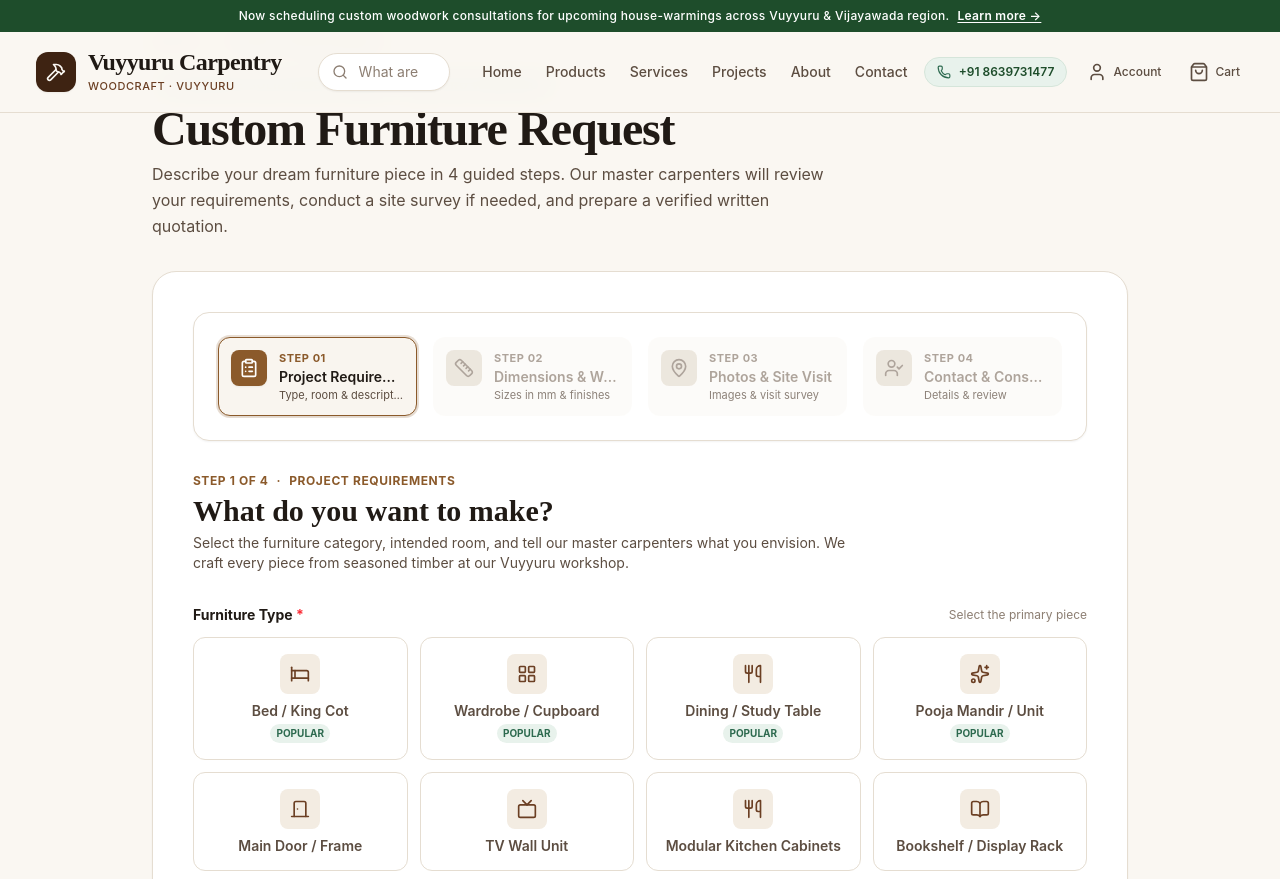
Test: Screen 05: Custom Furniture Request Acceptance Tests › renders Step 1 initially and preserves entered values when navigating between steps
(page scrolled)
Expected: the heading "What do you want to make?" is shown, left=193, top=494, right=554, bottom=527
// Select Bed
Click the text "Bed / King Cot" at [300, 711], box left=252, top=702, right=349, bottom=720
(page scrolled)
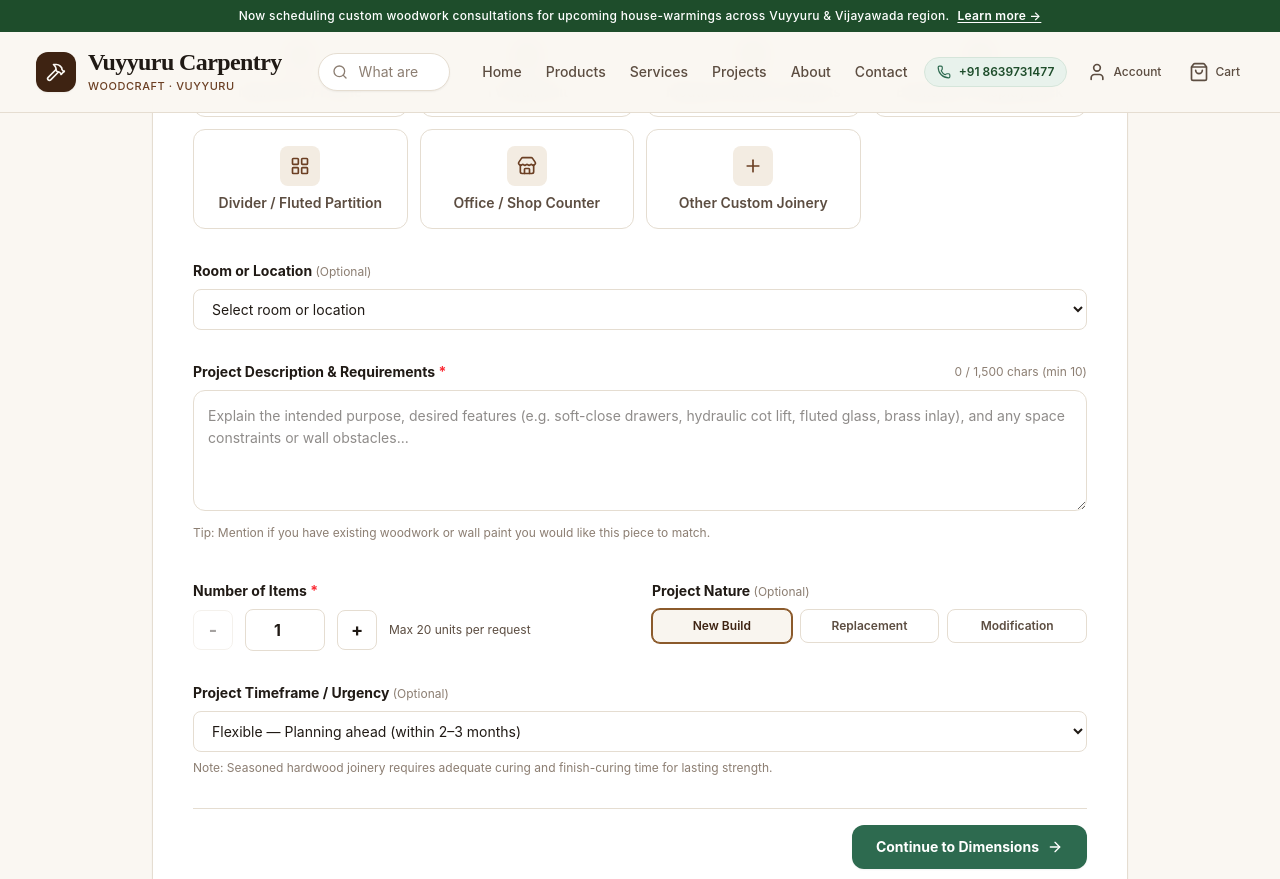
// Enter description
Replace the text in the text box with placeholder "Explain the intended purpose" with "Custom king cot made from seasoned Burma teak with headboard cushioning" at [640, 450], box left=193, top=390, right=1087, bottom=510
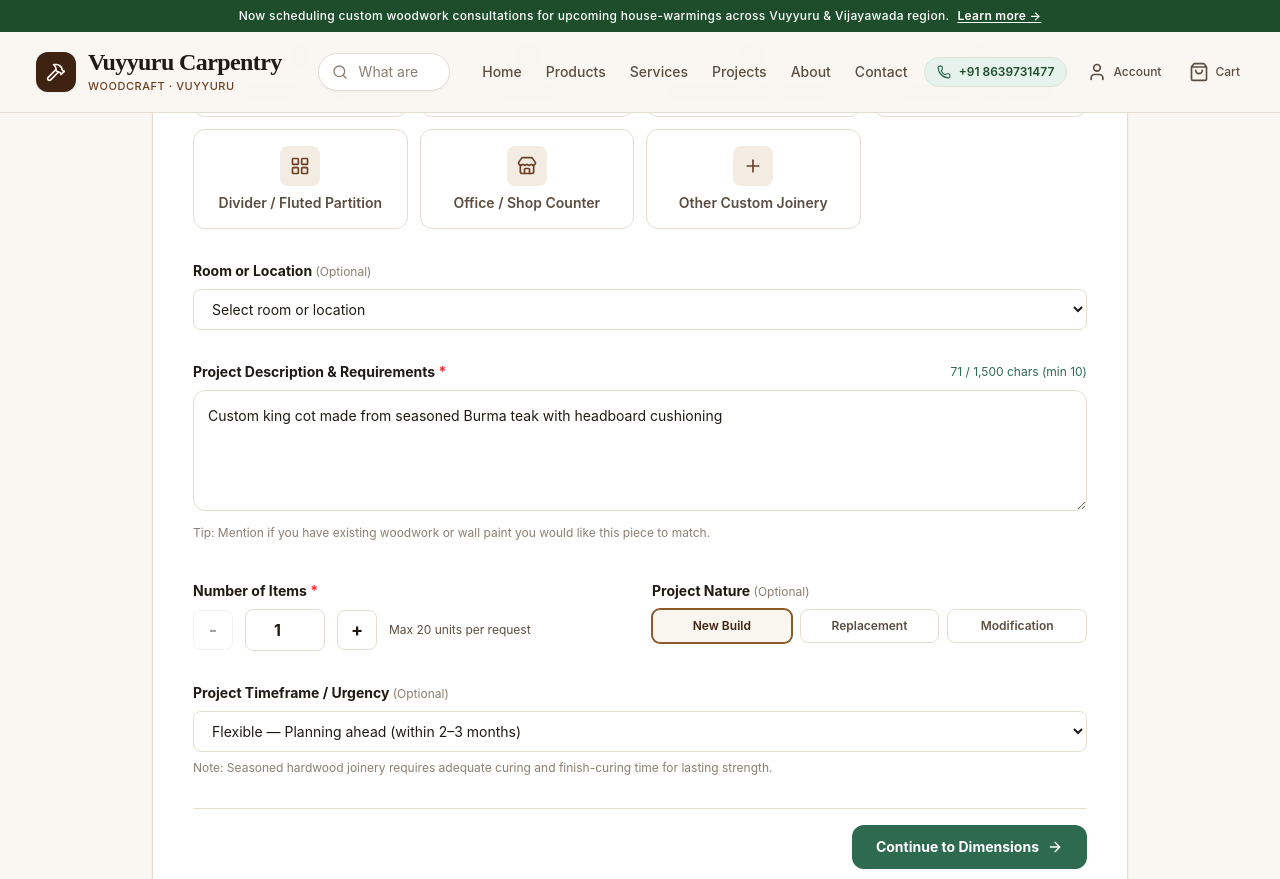
// Click Continue
Click the button "Continue to Dimensions" at [969, 846], box left=852, top=824, right=1087, bottom=868
(page scrolled)
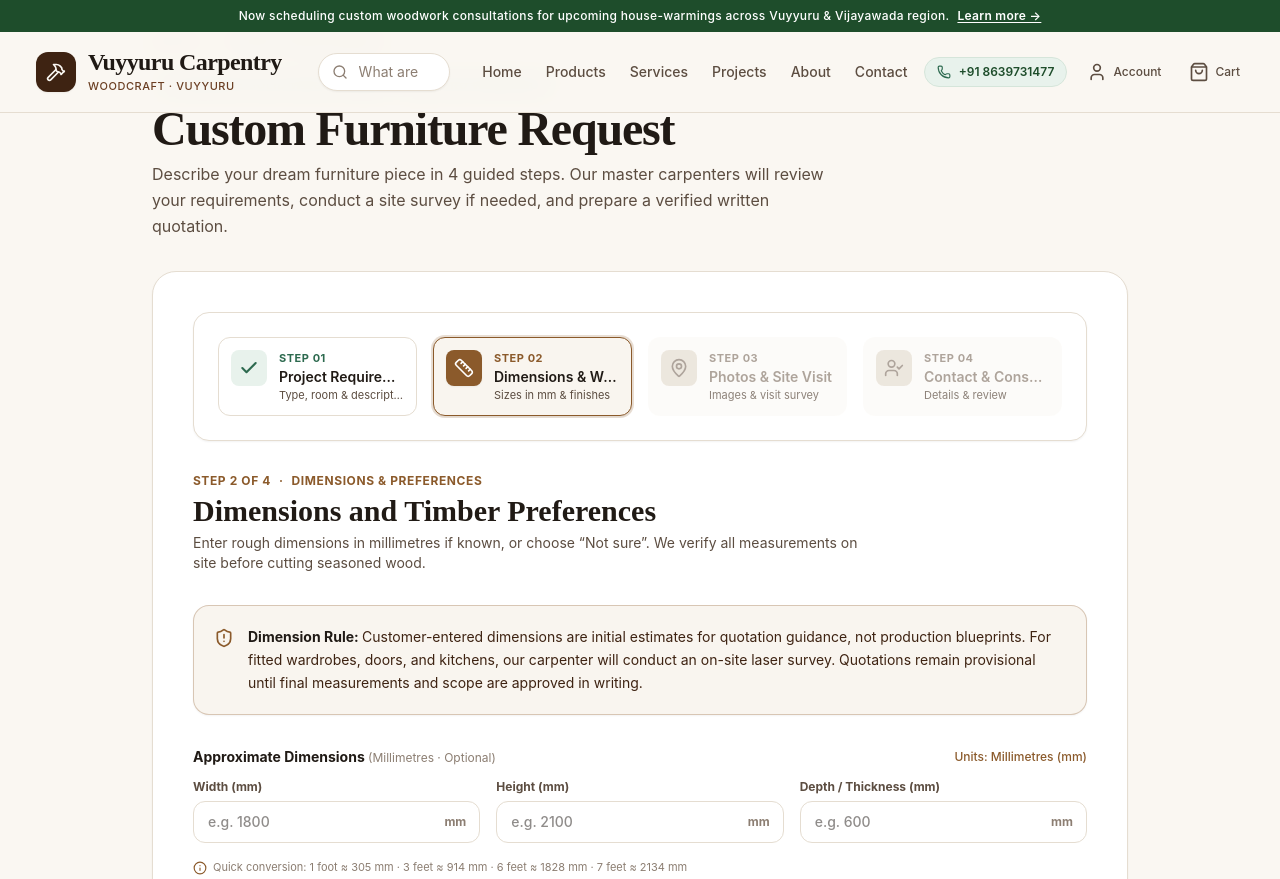
Now the heading "Dimensions and Timber Preferences" is shown, box left=193, top=494, right=656, bottom=527
// Enter width in mm
Type "1900" into the number field with placeholder "e.g. 1800" at [337, 822], box left=193, top=801, right=480, bottom=843
(page scrolled)
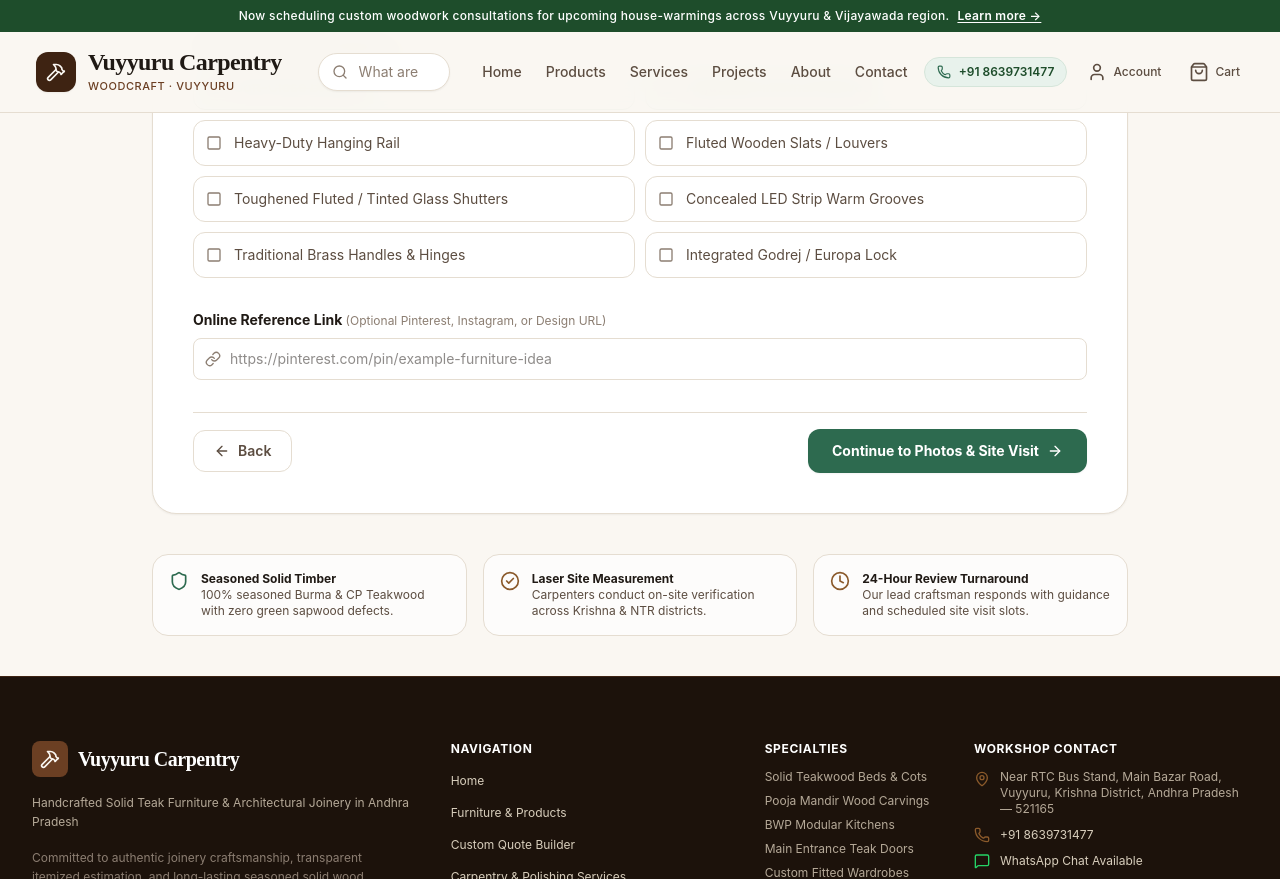
// Click Back
Click the button "Back" at [243, 451], box left=193, top=430, right=292, bottom=472
(page scrolled)
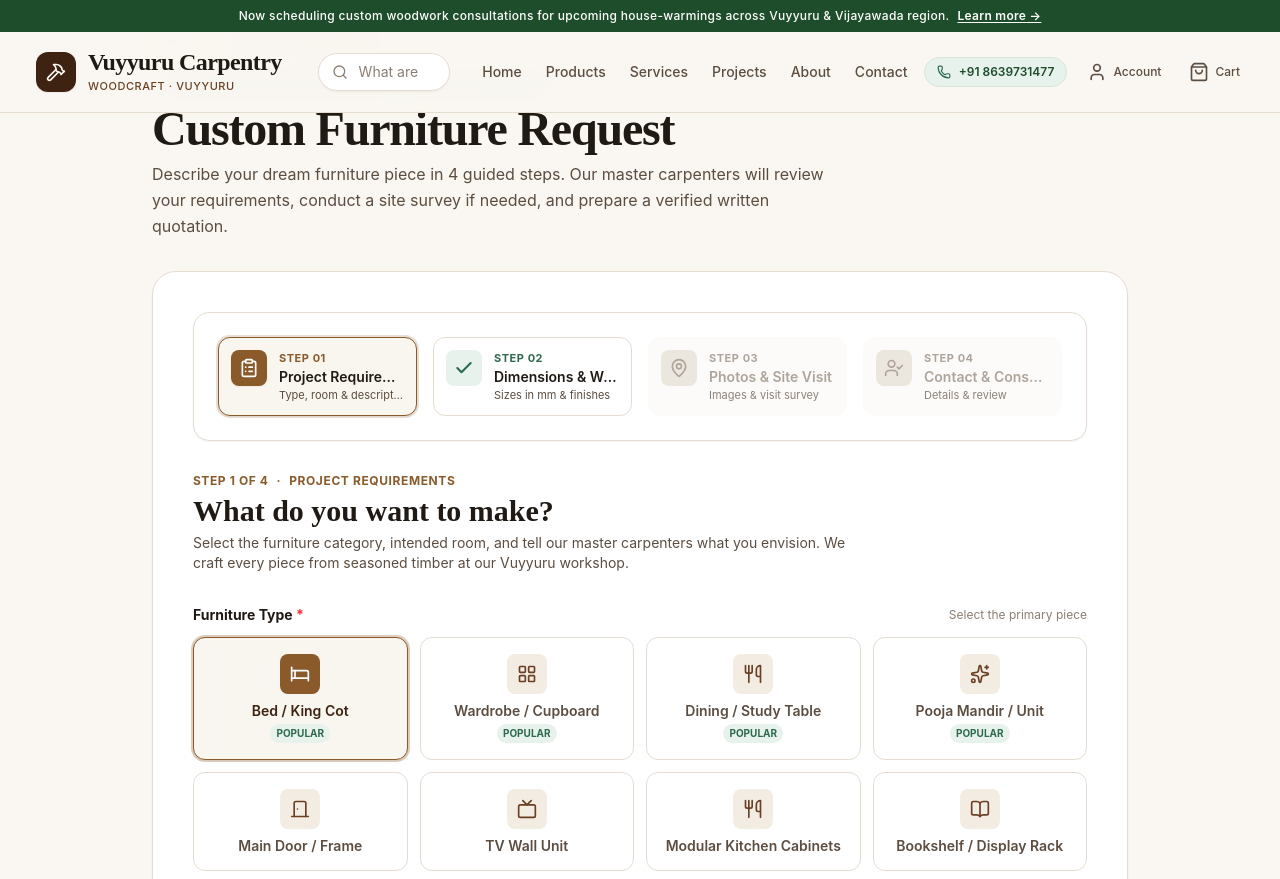
Now the heading "What do you want to make?" is shown, box left=193, top=494, right=554, bottom=527
